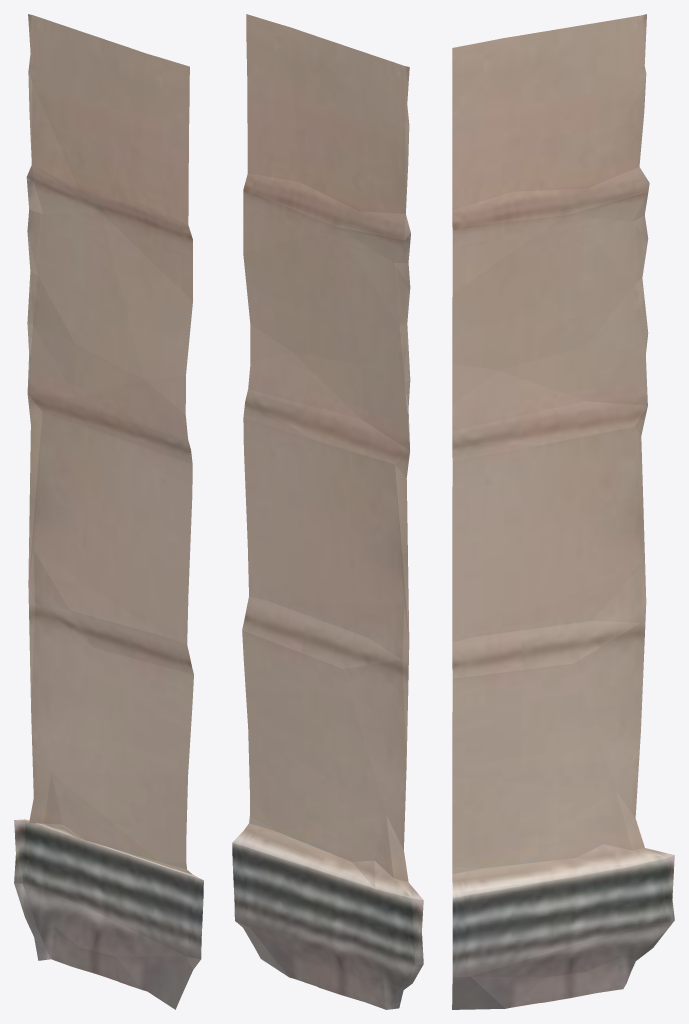
Rendered from Tile_+011_+008_L20_000001340.glb.
The picture shows the model from 3 angles, left to right: view 1: azimuth 30°, elevation 25°; view 2: azimuth 210°, elevation 25°; view 3: azimuth 270°, elevation 25°; orthographic projection. The views are drawn at different scales.
Parts seen in each view (by area): view 1: rtc; view 2: rtc; view 3: rtc.
Part boxes in pixels (x1,y1,x2,y2): rtc: [14, 14, 203, 1009]; rtc: [232, 14, 423, 1009]; rtc: [452, 14, 674, 1009].
Size of the model in its own units: 2.54 by 27.77 by 5.79.
Materials: 1 (1 with a texture image).
